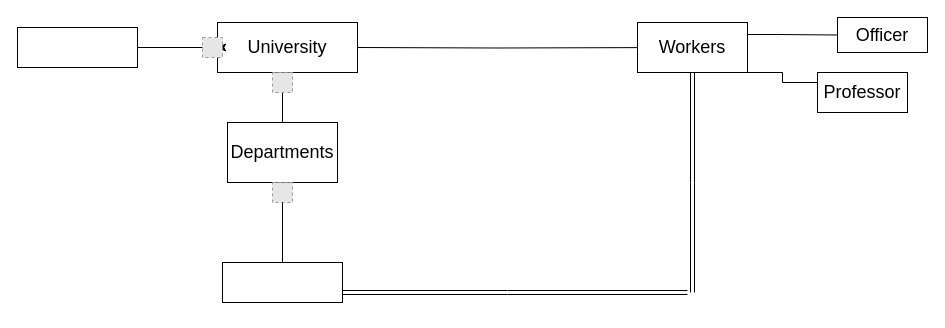
This 945x328 diagram has some shape labels left out. Grey dashed boxes stand in for pictures. The centre of each missing label's shape, as x and y in pixels:
"Classes" belongs at (x=77, y=47).
"Work offices" belongs at (x=282, y=282).
